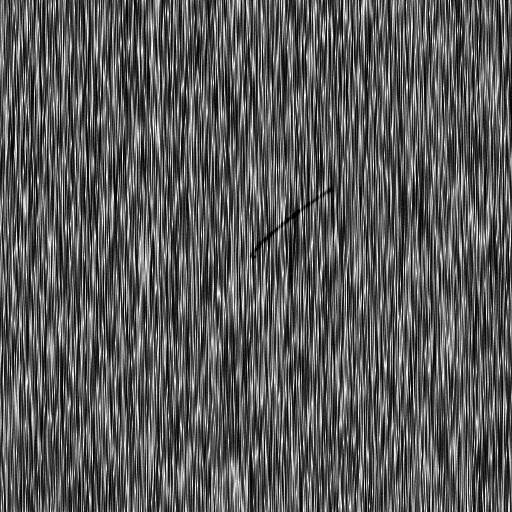DefectTypeC: (252, 184, 334, 253)
